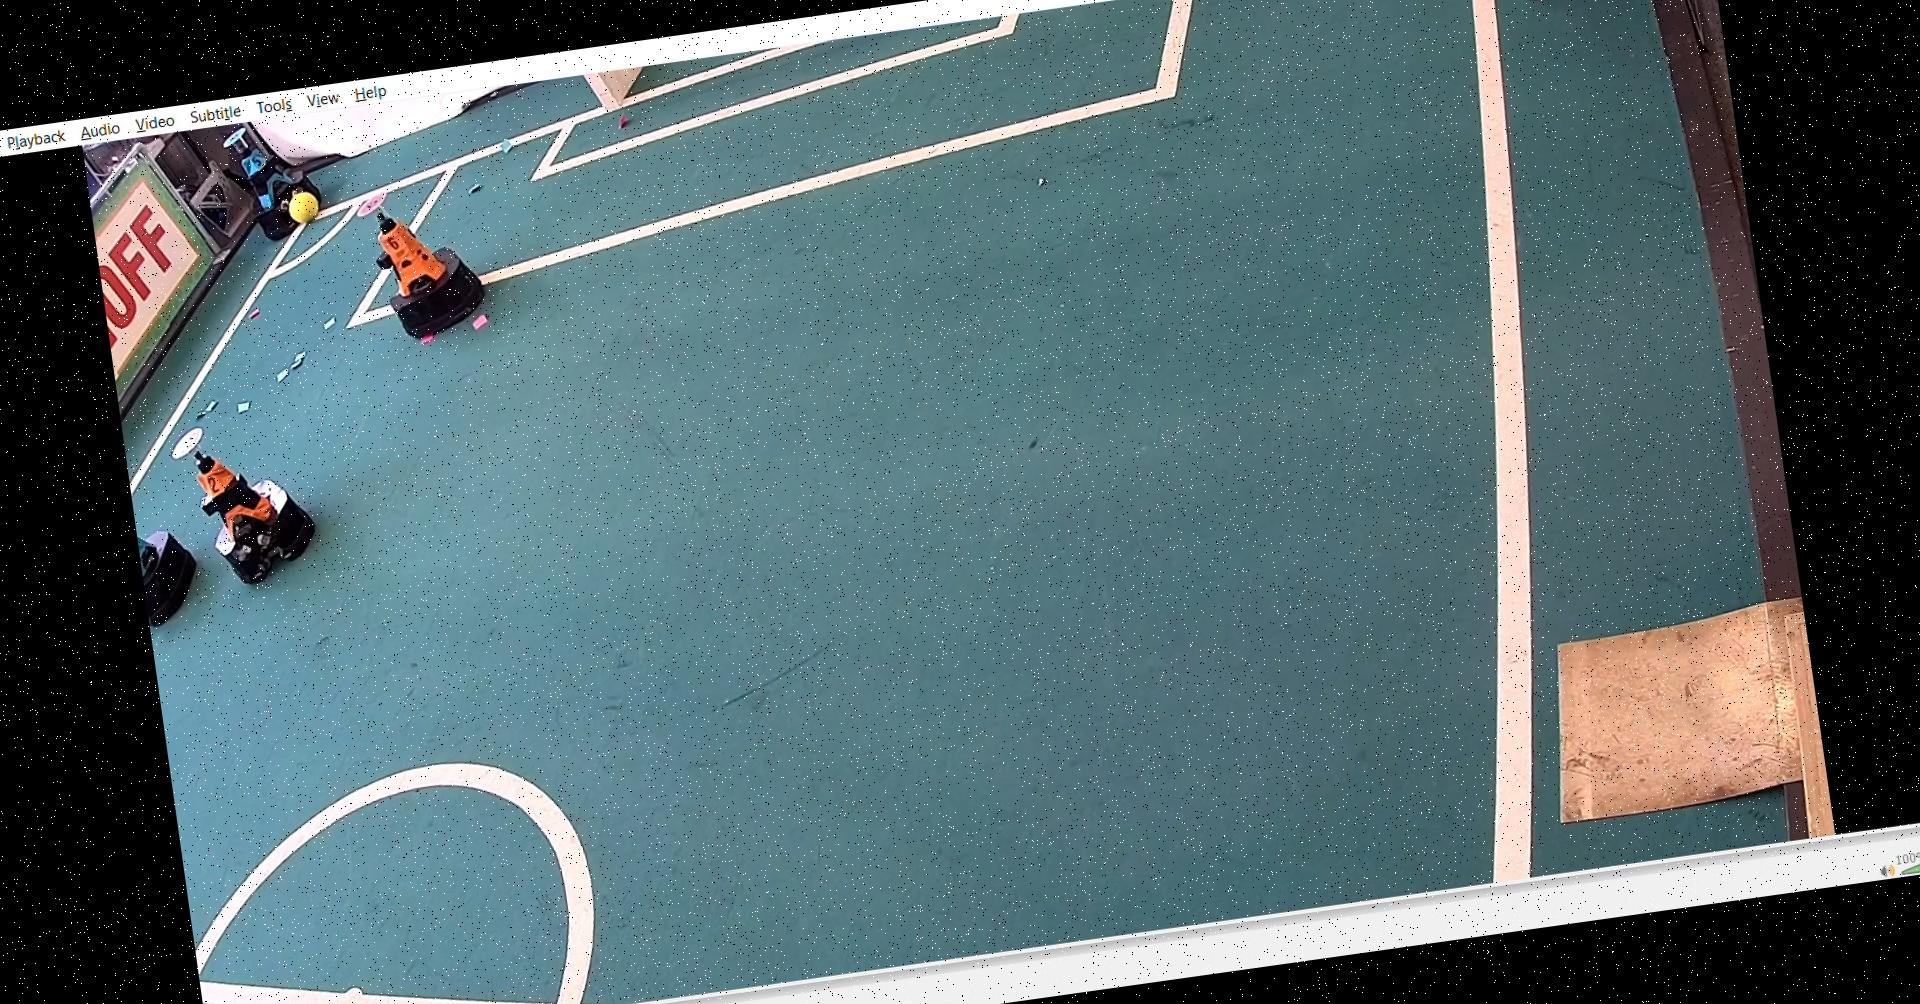Ball: (279, 180, 326, 230)
Team_Blue: (217, 117, 334, 254)
Team_Red: (160, 407, 334, 589), (345, 169, 503, 345)
